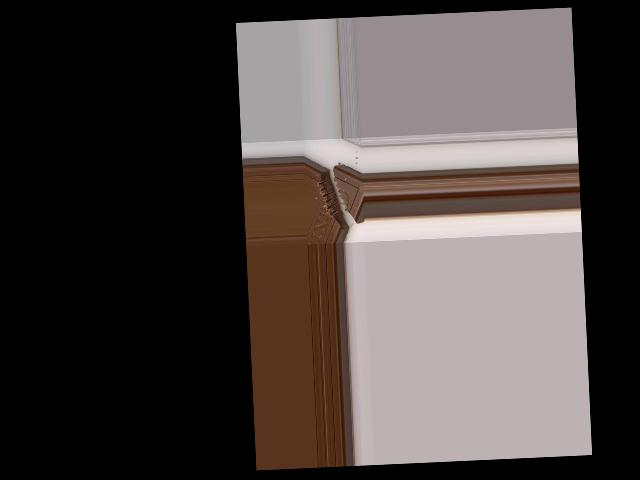chocolate: (304, 152, 366, 244)
